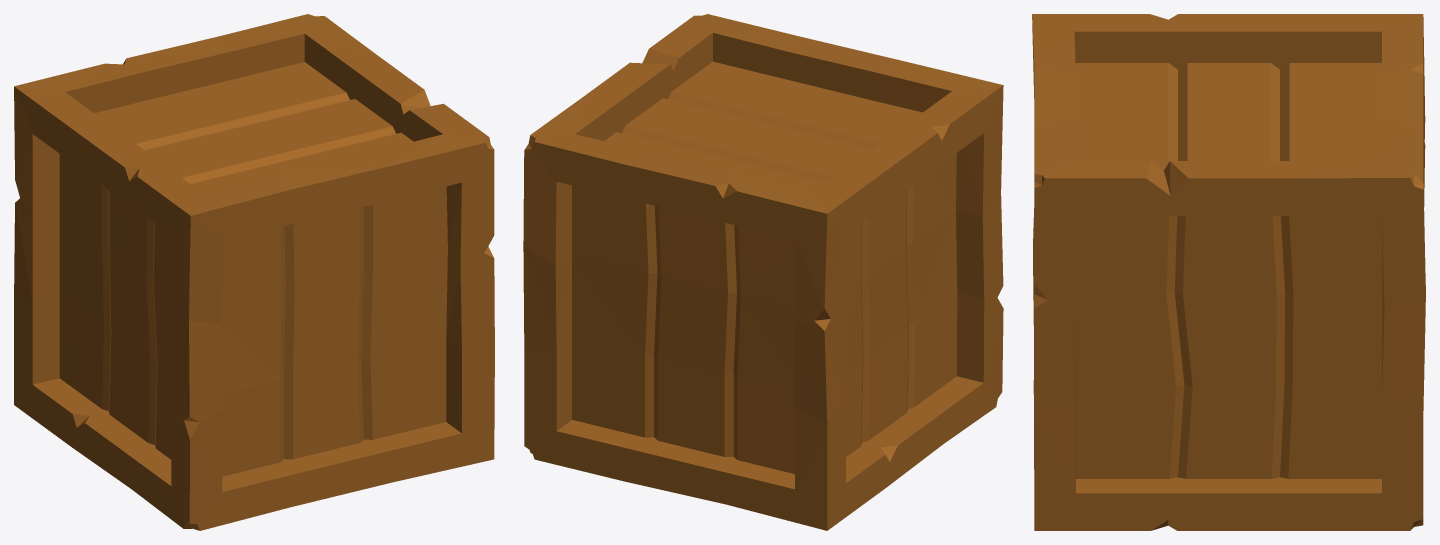
Rendered from caja.fbx.
3 views of the same model, side by side, from view 1: azimuth 30°, elevation 25°; view 2: azimuth 150°, elevation 25°; view 3: azimuth 270°, elevation 25° (orthographic). The views are drawn at different scales.
Parts seen in each view (by area): view 1: crate; view 2: crate; view 3: crate.
Part boxes in pixels (box(x1,y1,x2,y2)): crate: box(14, 14, 494, 530); crate: box(523, 14, 1003, 530); crate: box(1032, 14, 1425, 530).
Bounding box in the file's own units: 100 × 100 × 101.
